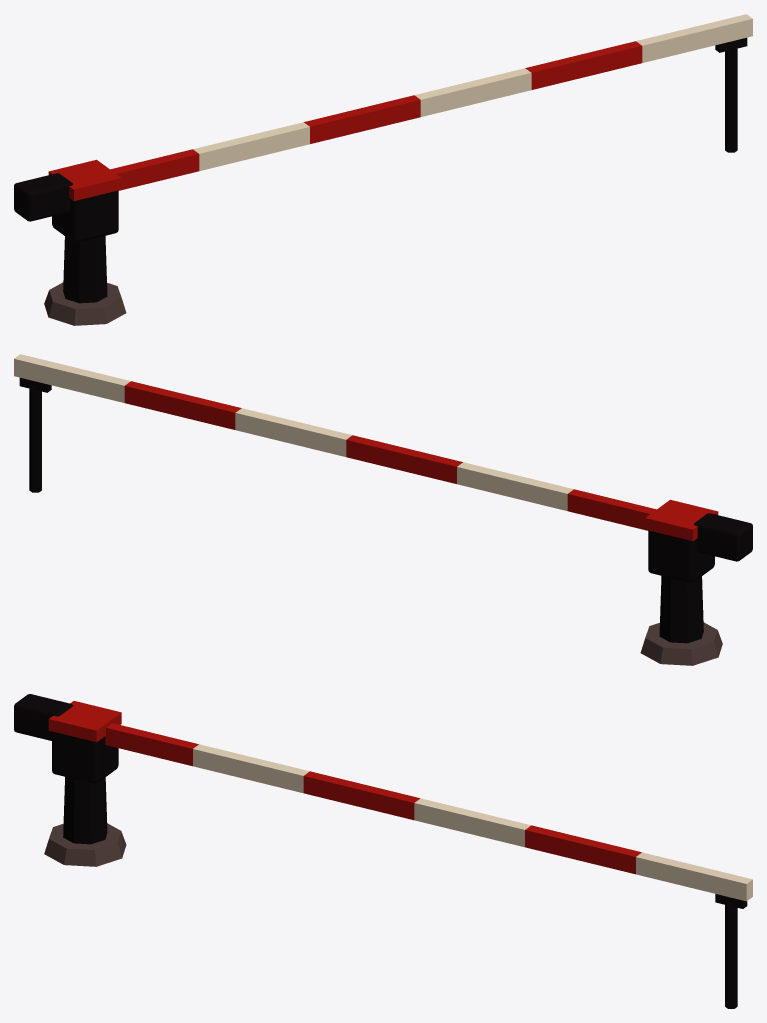
File: rs_barrier.glb
3 views of the same model, one above another, from view 1: azimuth 30°, elevation 25°; view 2: azimuth 150°, elevation 25°; view 3: azimuth 330°, elevation 25° (orthographic).
Visible parts, largest first — view 1: arm, barrier; view 2: arm, barrier; view 3: arm, barrier.
Boxes of the visible parts, x1,y1,x2,y2 form: arm: (14,14,752,221); barrier: (44,37,747,325); arm: (14,354,752,561); barrier: (19,377,722,665); arm: (14,694,752,901); barrier: (44,701,747,1008).
Bounding box in the file's own units: 7.9 × 1.41 × 0.8.
